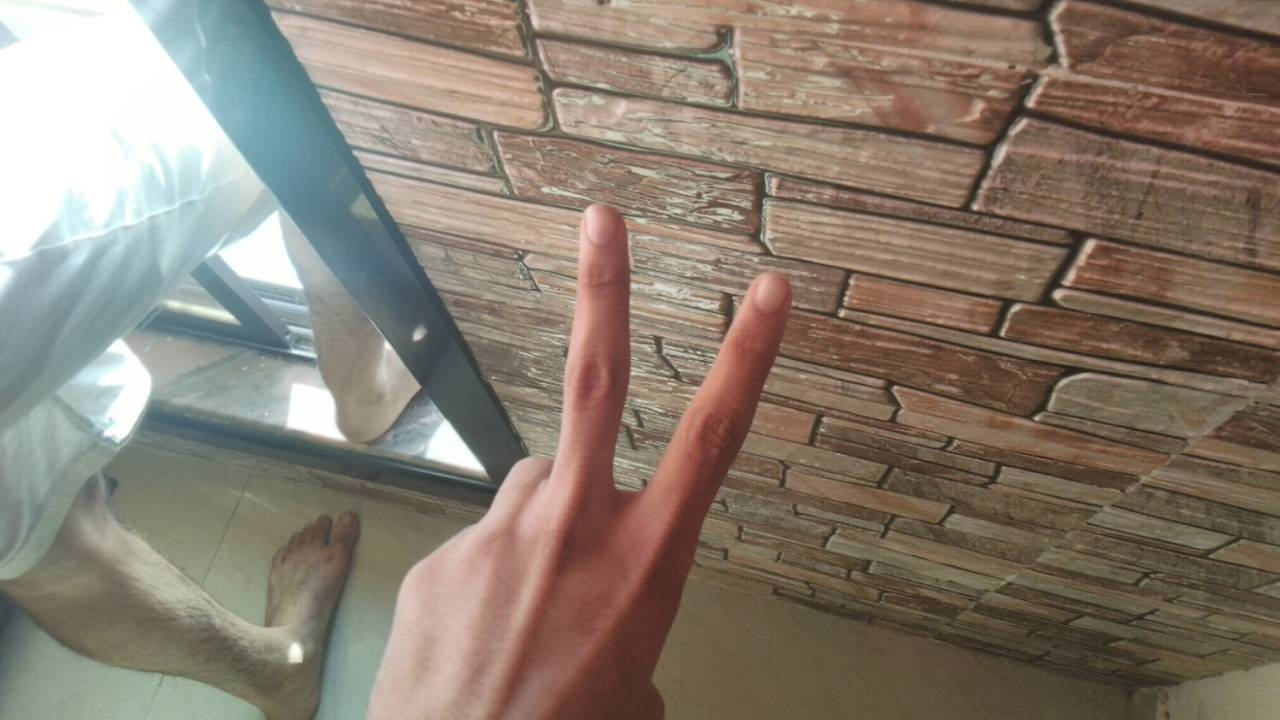fingertip: (570, 196, 634, 256), (740, 264, 798, 324)
